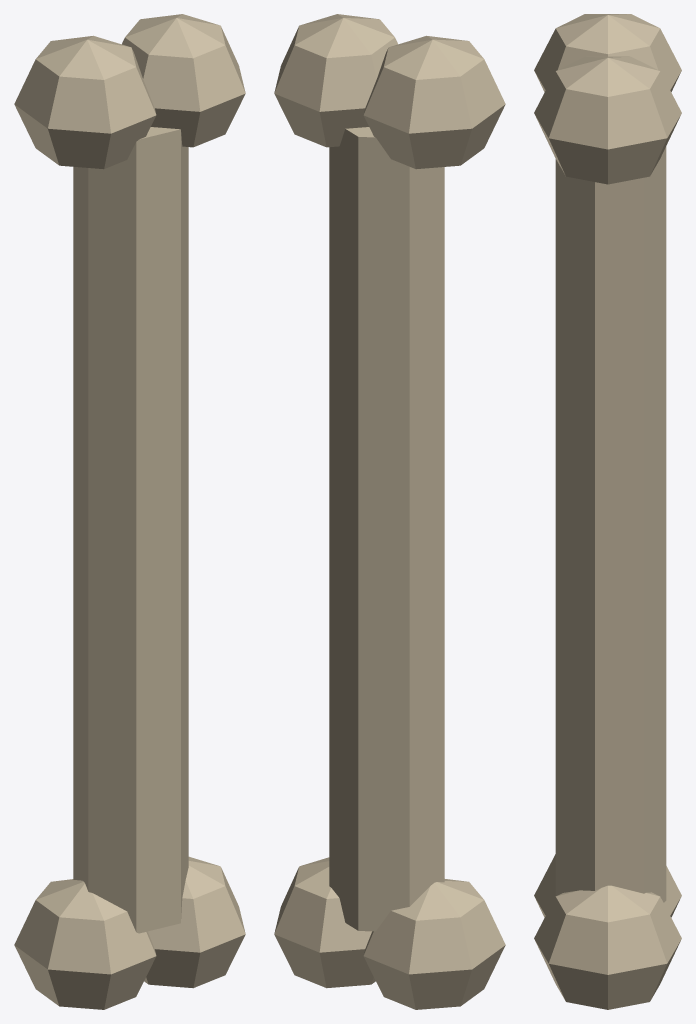
Rendered from longbone.glb.
3 views of the same model, side by side, from view 1: azimuth 30°, elevation 25°; view 2: azimuth 150°, elevation 25°; view 3: azimuth 270°, elevation 25° (orthographic).
Visible parts, largest first — view 1: shaft, joint.002, joint, joint.003, joint.001; view 2: shaft, joint.002, joint, joint.003, joint.001; view 3: shaft, joint.003, joint.001, joint.002, joint.
Boxes of the visible parts, left/top/right/bottom form: shaft: left=73, top=127, right=188, bottom=933; joint.002: left=14, top=35, right=156, bottom=169; joint: left=14, top=879, right=156, bottom=1009; joint.003: left=122, top=14, right=245, bottom=147; joint.001: left=144, top=856, right=245, bottom=988; shaft: left=329, top=127, right=444, bottom=931; joint.002: left=363, top=35, right=505, bottom=169; joint: left=363, top=879, right=505, bottom=1009; joint.003: left=274, top=14, right=397, bottom=147; joint.001: left=274, top=857, right=375, bottom=988; shaft: left=555, top=146, right=666, bottom=902; joint.003: left=534, top=56, right=681, bottom=184; joint.001: left=534, top=885, right=681, bottom=1009; joint.002: left=534, top=14, right=681, bottom=91; joint: left=534, top=854, right=681, bottom=917.
Size of the model in its own units: 0.0932 by 0.414 by 0.0585.
